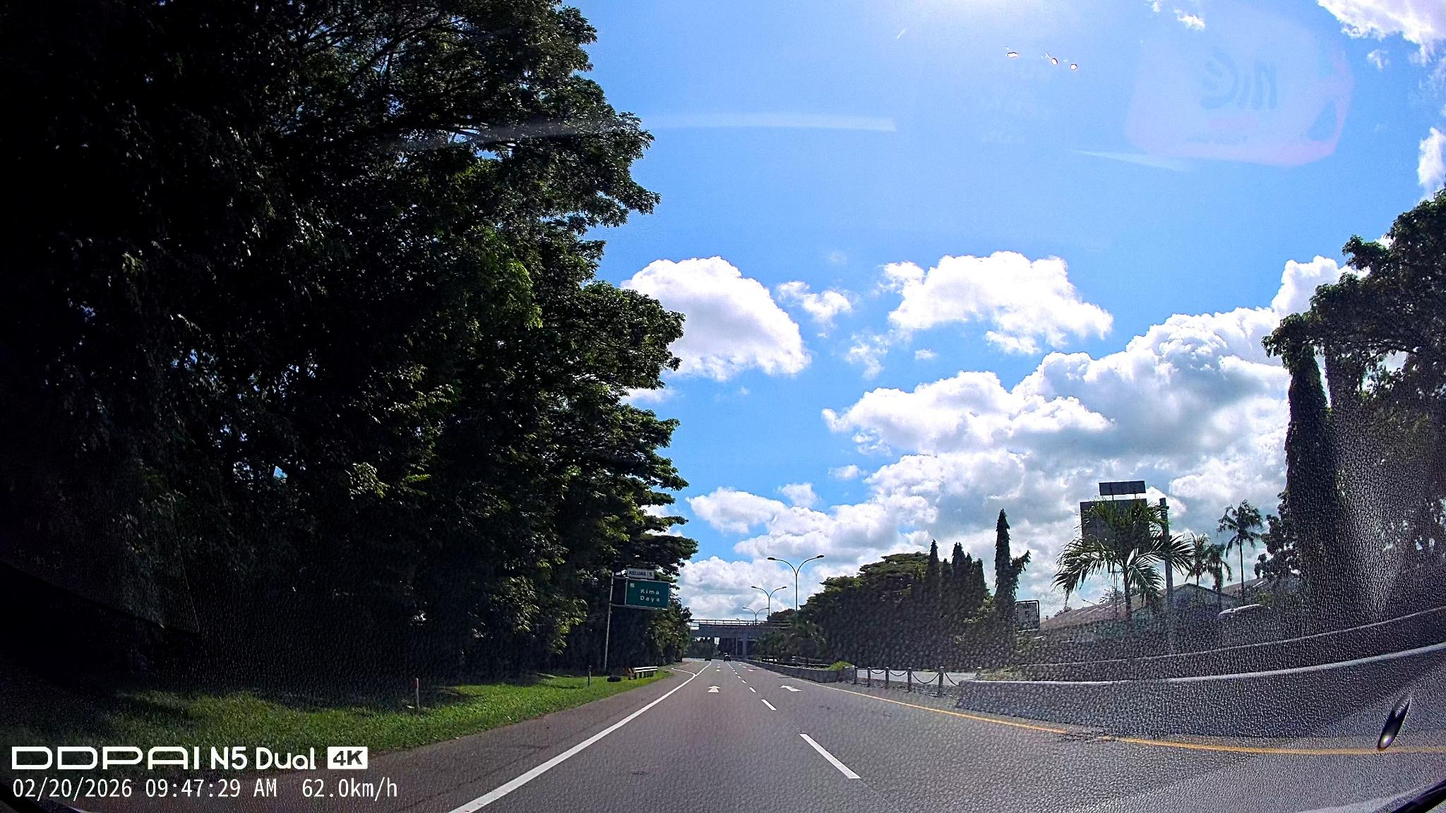rambu_teks: (625, 579, 670, 609)
